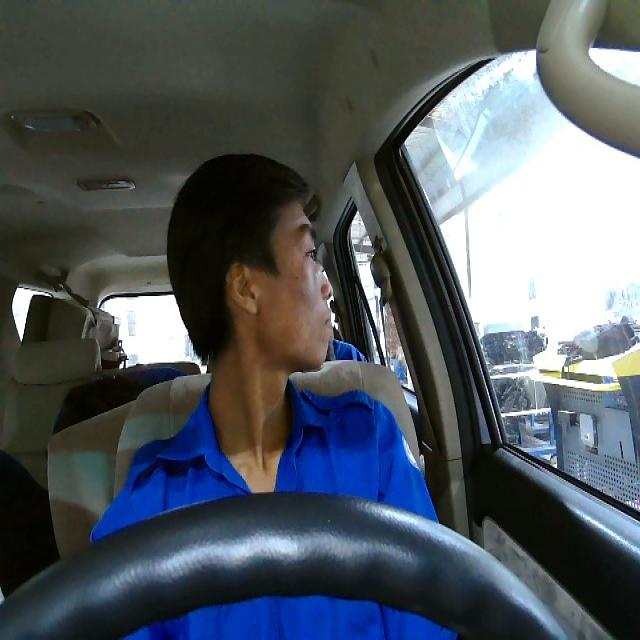seeing_right: (223, 197, 335, 371)
